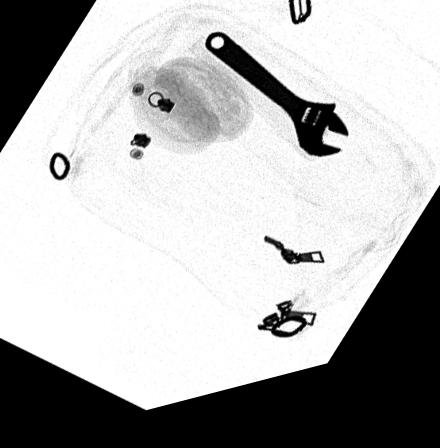Wrench: (200, 41, 349, 176)
